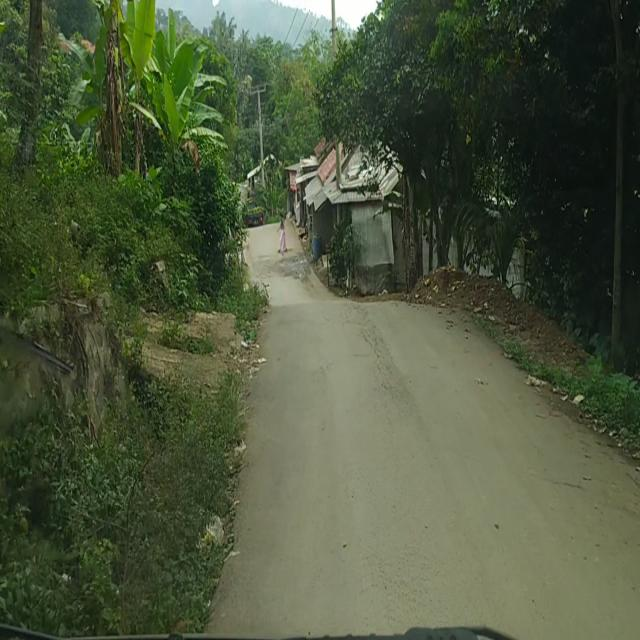Drain Hole: (354, 315, 402, 398)
